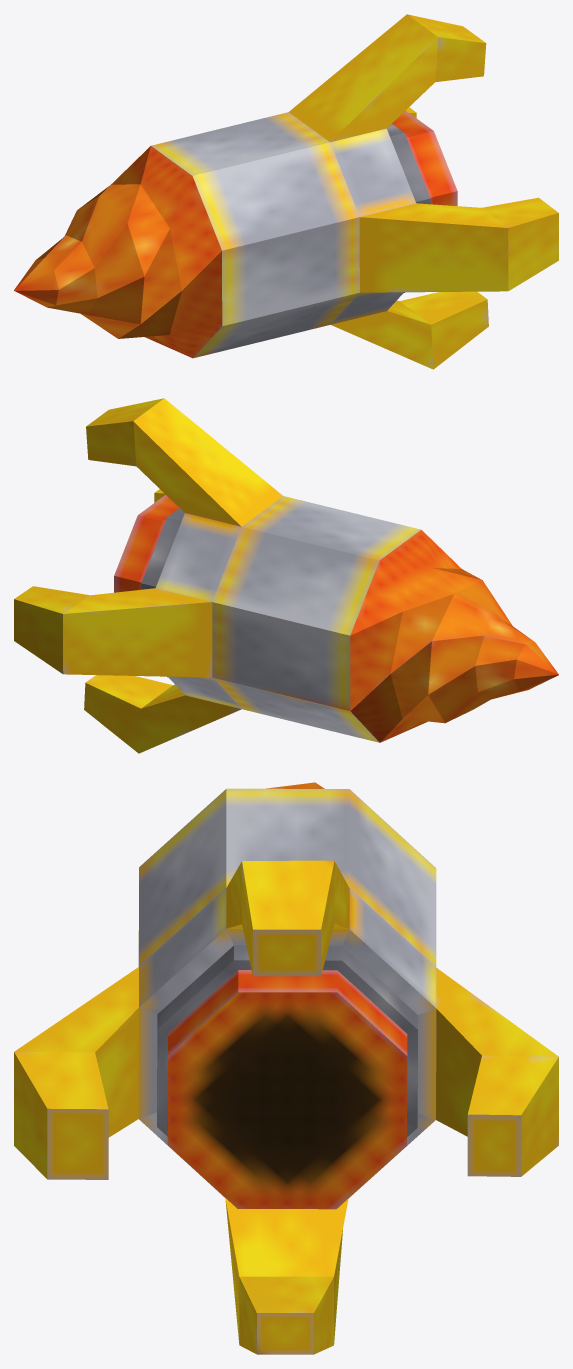
The model's file is projetil extração.fbx.
3 renders of one model, top to bottom at view 1: azimuth 30°, elevation 25°; view 2: azimuth 150°, elevation 25°; view 3: azimuth 270°, elevation 25°, orthographic. The views are drawn at different scales.
Parts seen in each view (by area): view 1: Cylinder.002; view 2: Cylinder.002; view 3: Cylinder.002.
Part boxes in pixels (box(x1,y1,x2,y2)): Cylinder.002: box(14, 14, 558, 369); Cylinder.002: box(14, 398, 558, 753); Cylinder.002: box(14, 782, 558, 1354).
Bounding box in the file's own units: 676 × 460 × 465.
